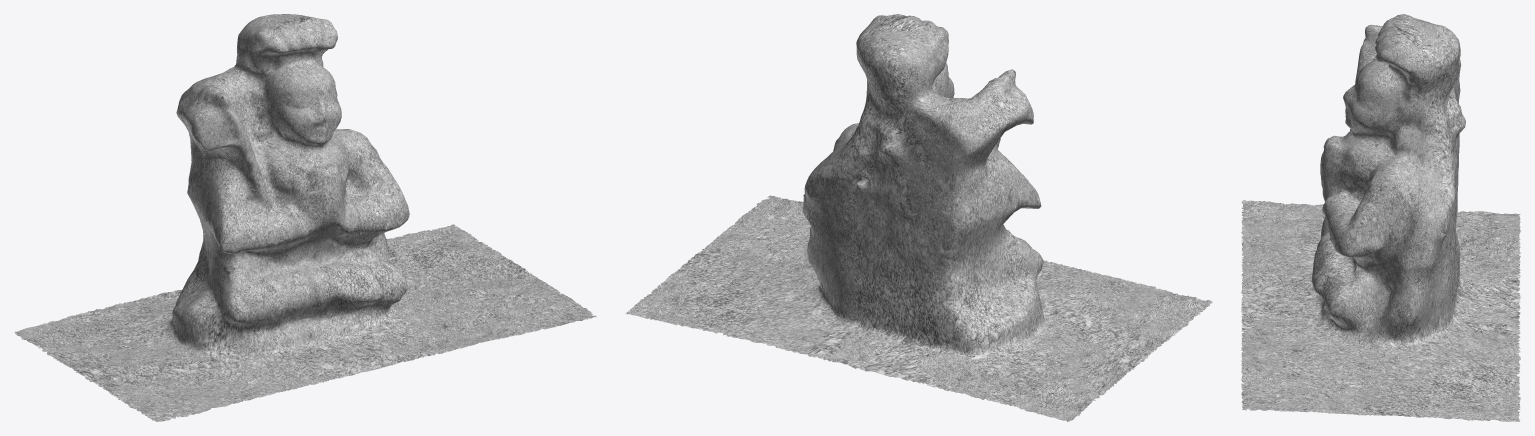
The model's file is statue.glb.
The picture shows the model from 3 angles, left to right: view 1: azimuth 30°, elevation 25°; view 2: azimuth 150°, elevation 25°; view 3: azimuth 270°, elevation 25°; orthographic projection. The views are drawn at different scales.
Visible parts, largest first — view 1: texturedMesh; view 2: texturedMesh; view 3: texturedMesh.
Boxes of the visible parts, x1,y1,x2,y2 form: texturedMesh: (14, 14, 596, 421); texturedMesh: (625, 14, 1212, 421); texturedMesh: (1241, 14, 1520, 421).
Size of the model in its own units: 0.2252 by 0.1472 by 0.1273.
Materials: 1 (1 with a texture image).
